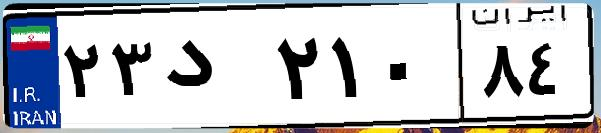0: (385, 28, 445, 110)
1: (330, 28, 385, 110)
2: (270, 28, 330, 110), (57, 26, 110, 100)
3: (110, 28, 158, 98)
4: (525, 38, 570, 115)
8: (475, 38, 525, 113)
د: (158, 20, 270, 120)
